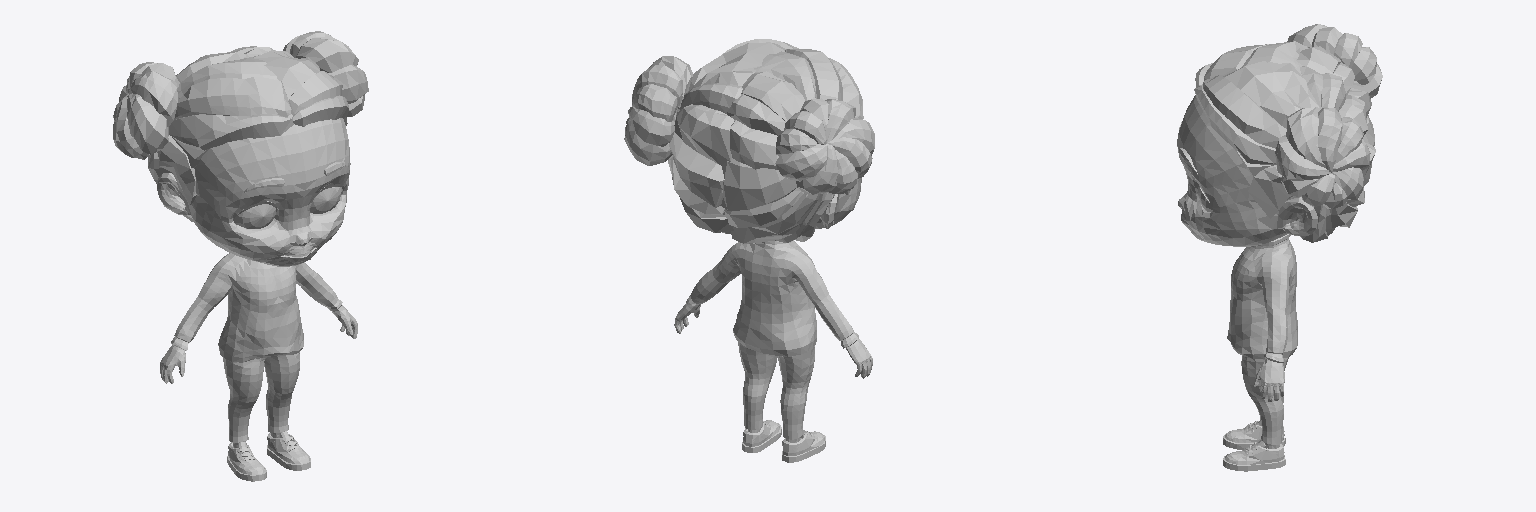
The model's file is characters_f.obj.
3 views of the same model, side by side, from view 1: azimuth 30°, elevation 25°; view 2: azimuth 150°, elevation 25°; view 3: azimuth 270°, elevation 25° (orthographic).
Parts seen in each view (by area): view 1: hair_f1_Cylinder.005, characters_f1_01.001_Mesh.001, cloth_1_03_Mesh.011; view 2: hair_f1_Cylinder.005, cloth_1_03_Mesh.011, characters_f1_01.001_Mesh.001; view 3: hair_f1_Cylinder.005, cloth_1_03_Mesh.011, characters_f1_01.001_Mesh.001.
Part boxes in pixels (left/top/right/bottom): hair_f1_Cylinder.005: left=113, top=31, right=368, bottom=221; characters_f1_01.001_Mesh.001: left=157, top=118, right=357, bottom=383; cloth_1_03_Mesh.011: left=171, top=253, right=342, bottom=481; hair_f1_Cylinder.005: left=624, top=39, right=874, bottom=243; cloth_1_03_Mesh.011: left=686, top=240, right=858, bottom=462; characters_f1_01.001_Mesh.001: left=672, top=120, right=872, bottom=378; hair_f1_Cylinder.005: left=1179, top=24, right=1382, bottom=242; cloth_1_03_Mesh.011: left=1223, top=234, right=1297, bottom=471; characters_f1_01.001_Mesh.001: left=1177, top=95, right=1317, bottom=401.
Bounding box in the file's own units: 0.4991 × 0.7958 × 0.3733.